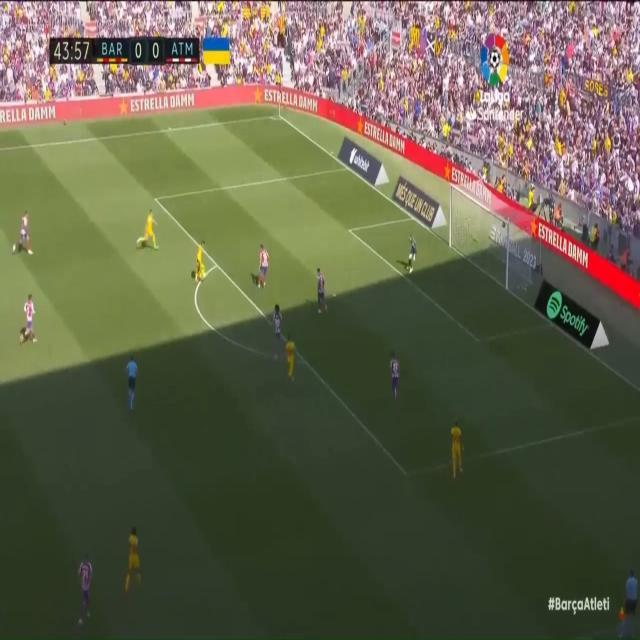ball: (201, 271, 209, 281)
goalkeeper: (401, 234, 421, 278)
player: (11, 209, 41, 265), (139, 207, 165, 255), (80, 550, 96, 628), (129, 526, 145, 601), (309, 268, 329, 320), (23, 283, 36, 352), (257, 238, 270, 302), (385, 349, 401, 400), (274, 302, 286, 362), (195, 234, 207, 292), (285, 329, 297, 381), (452, 421, 462, 481)
referee: (615, 562, 640, 640), (122, 356, 138, 414)
